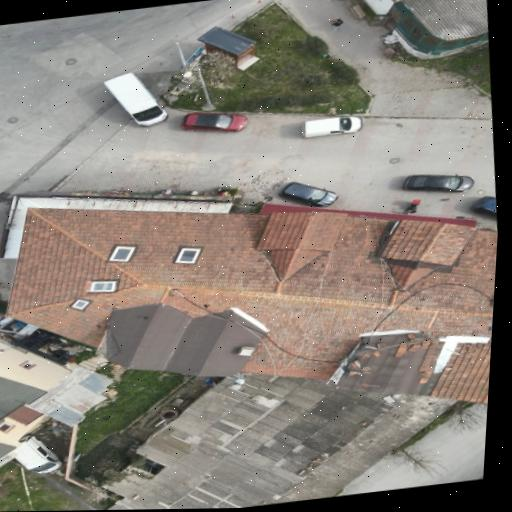car: (103, 73, 166, 126), (10, 435, 61, 472), (279, 181, 337, 206), (180, 112, 246, 132), (302, 116, 362, 136), (403, 174, 472, 191), (472, 196, 496, 217)
person: (329, 18, 342, 29), (326, 0, 345, 2)
